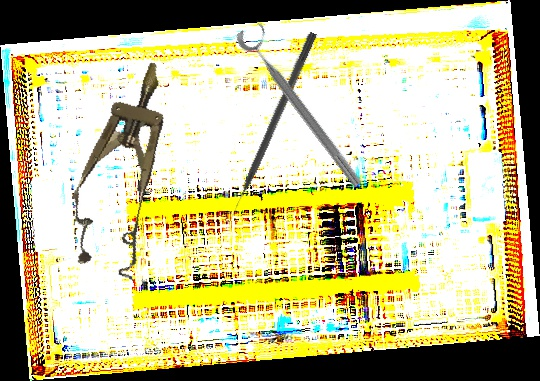Fixation Ring: (233, 17, 376, 192)
Pusher: (225, 30, 318, 221)
Speculum: (54, 51, 195, 282)
